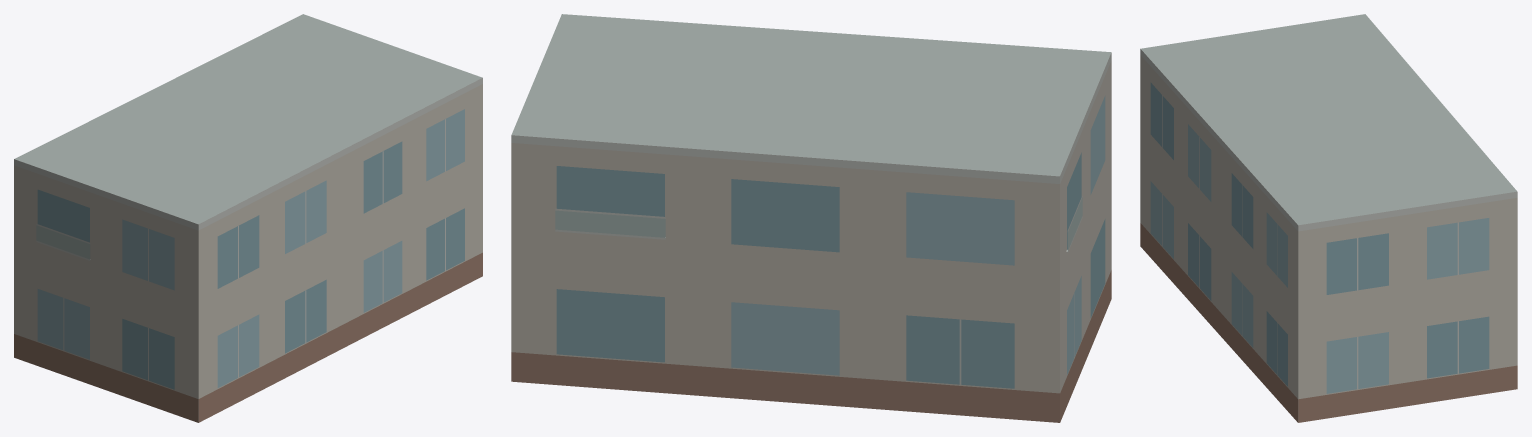
The model's file is survey-upis-32842339.glb.
3 renders of one model, left to right at view 1: azimuth 30°, elevation 25°; view 2: azimuth 150°, elevation 25°; view 3: azimuth 270°, elevation 25°, orthographic. The views are drawn at different scales.
Parts seen in each view (by area): view 1: survey-upis-32842339.tmp; view 2: survey-upis-32842339.tmp; view 3: survey-upis-32842339.tmp.
Part boxes in pixels (x1,y1,x2,y2): survey-upis-32842339.tmp: (14, 14, 482, 422); survey-upis-32842339.tmp: (511, 14, 1111, 422); survey-upis-32842339.tmp: (1140, 14, 1517, 422).
Bounding box in the file's own units: 17.9 × 7.8 × 13.5.
